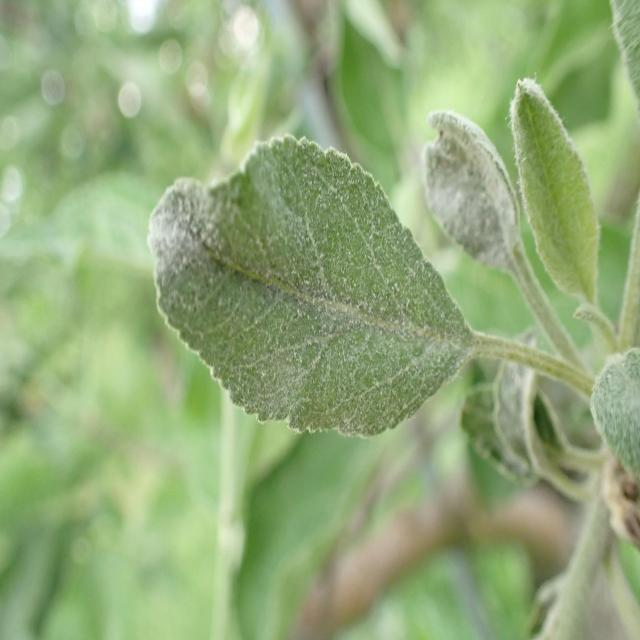Powdery_mildew: (137, 109, 482, 461), (418, 114, 546, 344), (508, 69, 614, 342), (483, 333, 574, 503), (578, 342, 640, 492)
